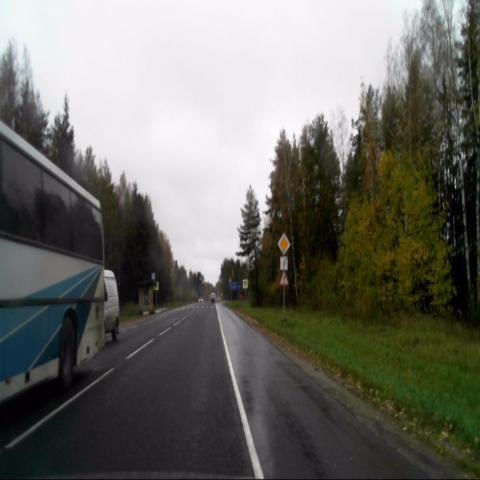1_22: (278, 271, 288, 287)
2_1: (277, 232, 291, 257)
